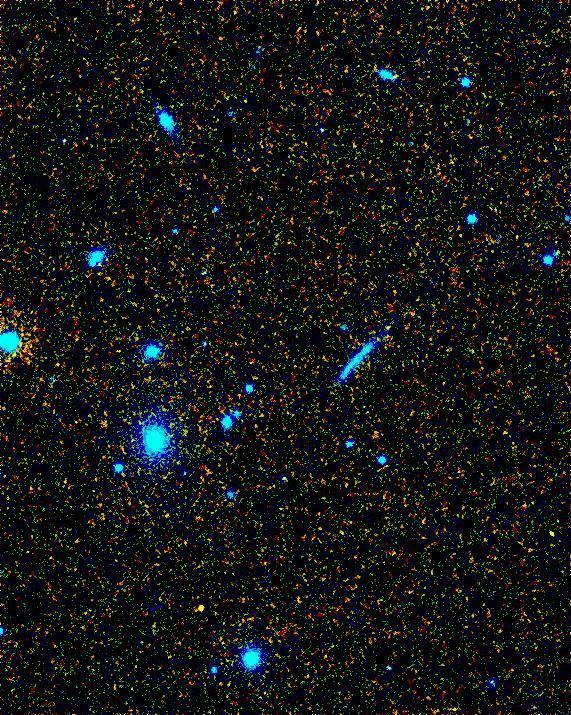star: (186, 592, 216, 622)
